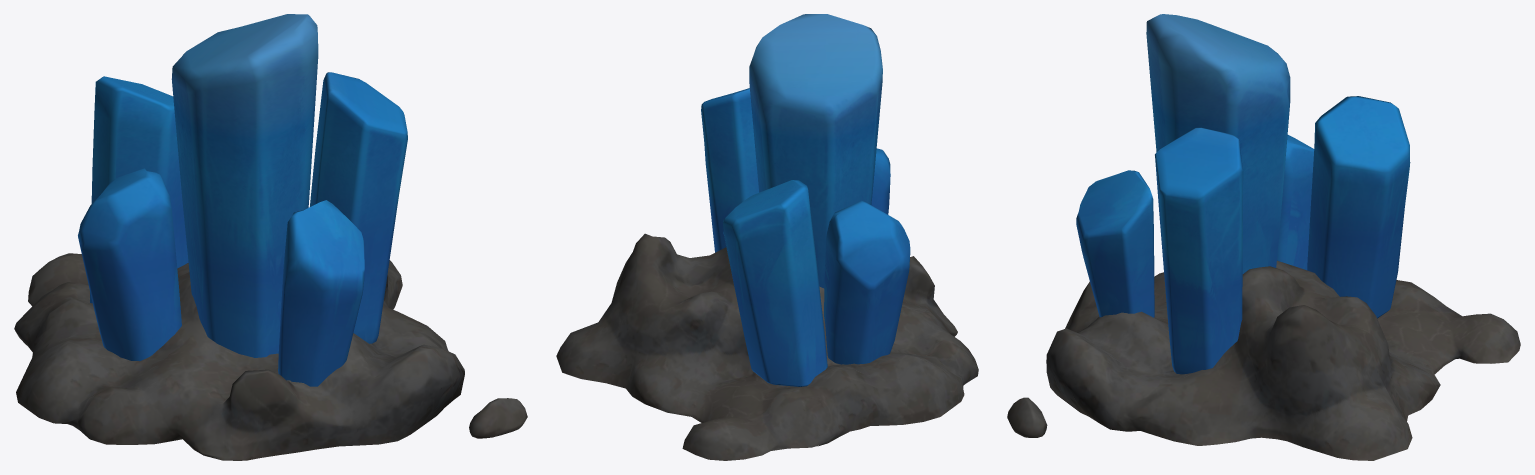
File: Crystal.fbx
3 renders of one model, left to right at view 1: azimuth 30°, elevation 25°; view 2: azimuth 150°, elevation 25°; view 3: azimuth 270°, elevation 25°, orthographic. The views are drawn at different scales.
Parts seen in each view (by area): view 1: 1, Rock, 2, Base; view 2: Rock, 1, 2, Base; view 3: Rock, 1, 2, Base.
Boxes of the visible parts, x1=… form: 1: x1=78, y1=14, x2=407, y2=311; Rock: x1=14, y1=253, x2=527, y2=460; 2: x1=91, y1=110, x2=398, y2=360; Base: x1=90, y1=292, x2=380, y2=386; Rock: x1=556, y1=233, x2=978, y2=460; 1: x1=701, y1=14, x2=910, y2=330; 2: x1=705, y1=156, x2=898, y2=350; Base: x1=744, y1=329, x2=894, y2=386; Rock: x1=1007, y1=260, x2=1520, y2=460; 1: x1=1076, y1=14, x2=1410, y2=257; 2: x1=1083, y1=147, x2=1409, y2=363; Base: x1=1096, y1=265, x2=1397, y2=374.
Size of the model in its own units: 125 by 108 by 146.
Materials: 1 (1 with a texture image).
